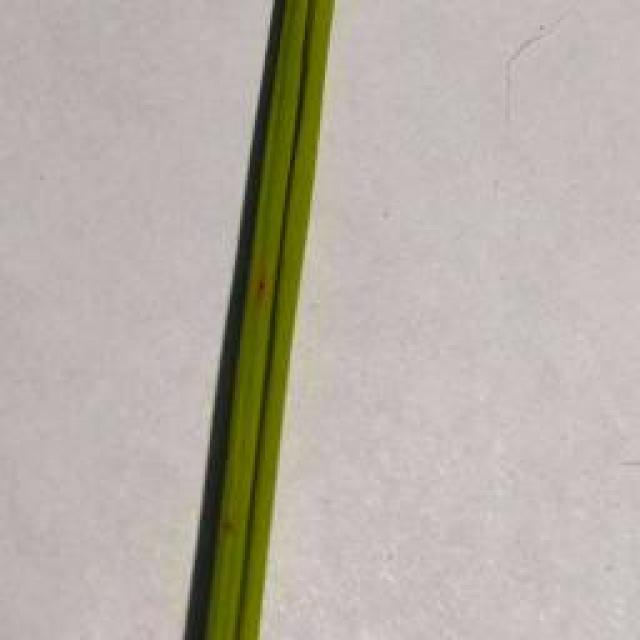Brown_Spot: (245, 263, 276, 304), (218, 513, 238, 553)
